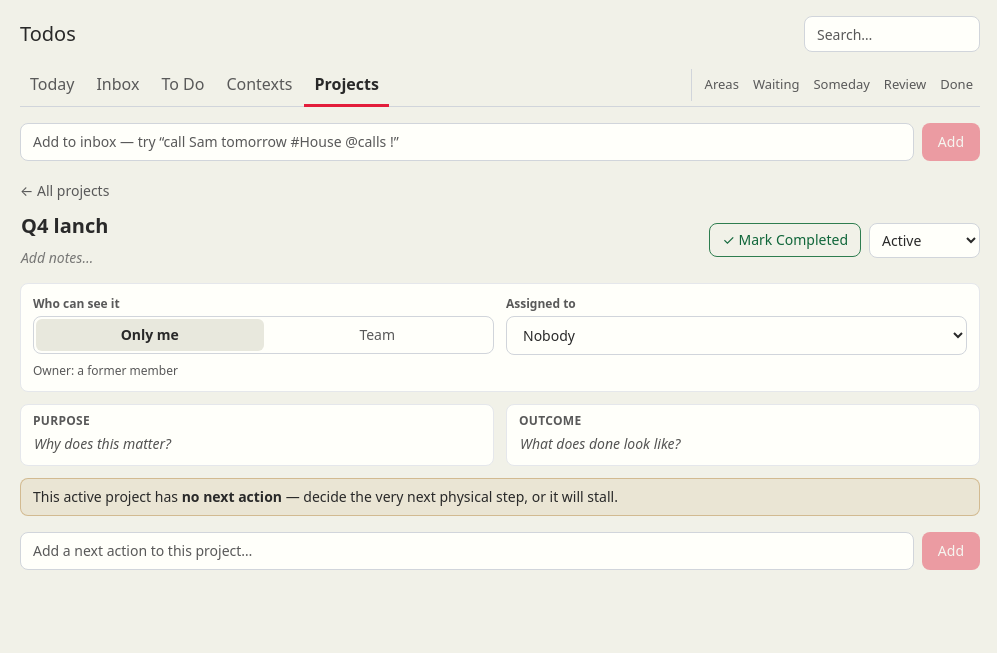
it: ProjectDetailPage — inline notes edit (todo-gtd #3198) › offers a clickable placeholder when the project has no notes
Step 1. Click the button titled "Click to edit" → click(57, 258), box top-left (16, 245), bottom-right (98, 271)
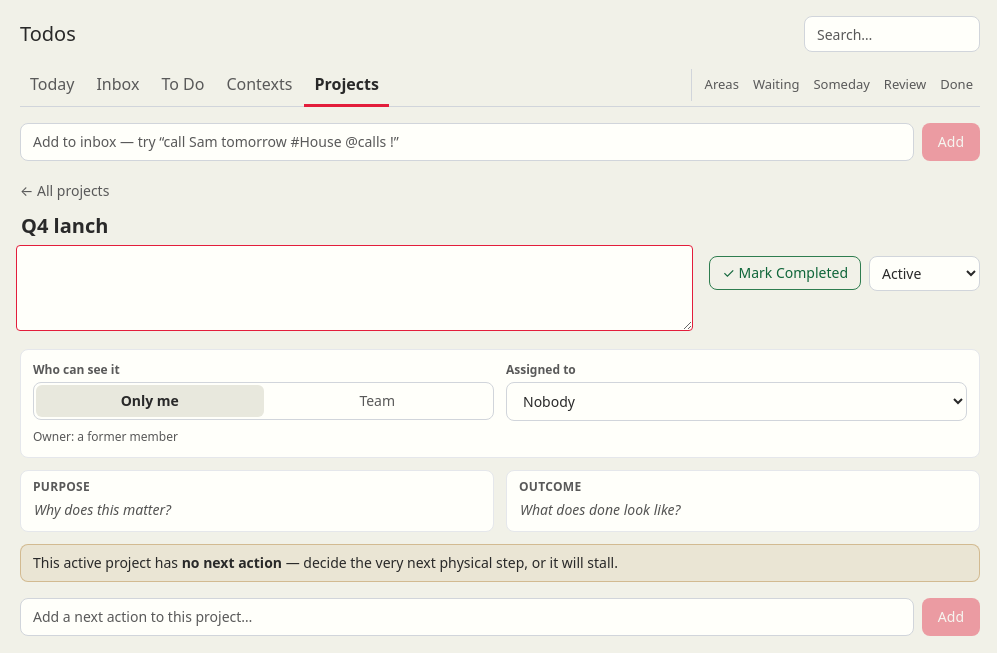
Expected: the text box named "Project notes" is shown, top-left (16, 245), bottom-right (693, 331)
